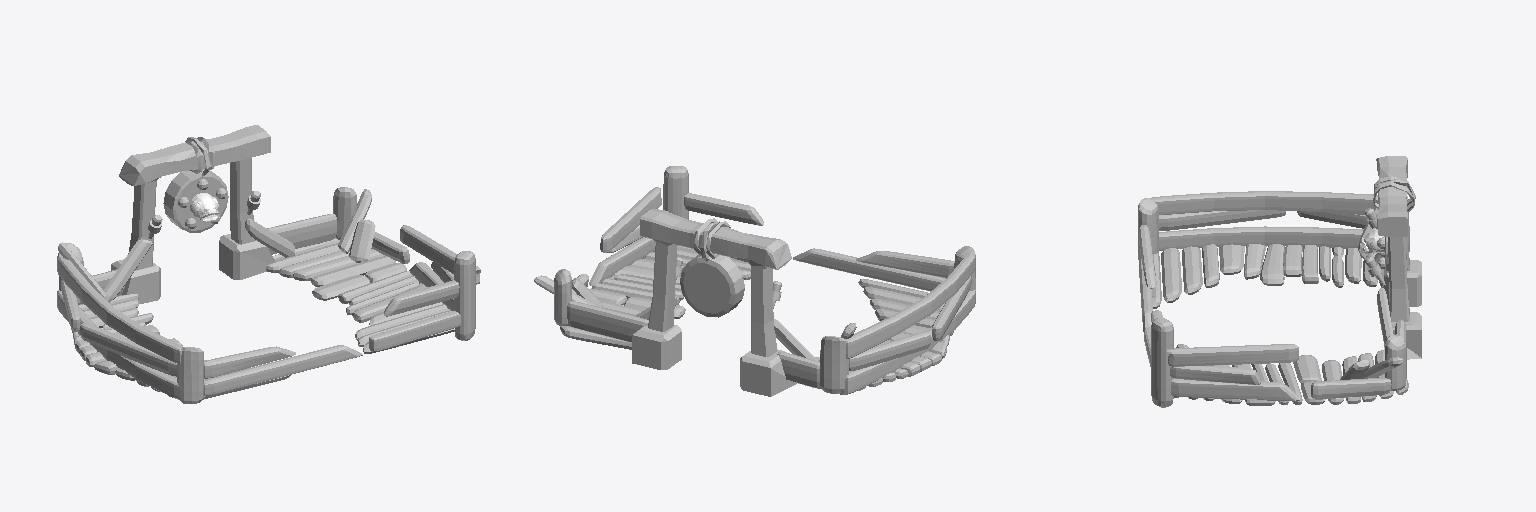
Rendered from dojo.obj.
3 views of the same model, side by side, from view 1: azimuth 30°, elevation 25°; view 2: azimuth 150°, elevation 25°; view 3: azimuth 270°, elevation 25° (orthographic).
Visible parts, largest first — view 1: Cube_Cube.001, Cube.003_Cube, Cube.002_Cube.003, Cube.001_Cube.002, Cylinder, Cube.005, Cube.004, Cylinder.001_Cylinder.002; view 2: Cube_Cube.001, Cube.003_Cube, Cube.001_Cube.002, Cylinder, Cube.002_Cube.003, Cube.005, Cube.004, Cylinder.001_Cylinder.002; view 3: Cube_Cube.001, Cube.002_Cube.003, Cube.003_Cube, Cube.001_Cube.002, Cube.004, Cube.005, Cylinder.001_Cylinder.002.
Part boxes in pixels (bbox=[...]): Cube_Cube.001: bbox=[57, 189, 480, 399]; Cube.003_Cube: bbox=[119, 125, 270, 269]; Cube.002_Cube.003: bbox=[71, 251, 449, 391]; Cube.001_Cube.002: bbox=[58, 187, 475, 403]; Cylinder: bbox=[163, 169, 228, 232]; Cube.005: bbox=[219, 234, 275, 279]; Cube.004: bbox=[111, 259, 160, 303]; Cylinder.001_Cylinder.002: bbox=[185, 137, 214, 176]; Cube_Cube.001: bbox=[534, 187, 975, 394]; Cube.003_Cube: bbox=[640, 209, 791, 356]; Cube.001_Cube.002: bbox=[554, 166, 975, 393]; Cylinder: bbox=[680, 253, 744, 317]; Cube.002_Cube.003: bbox=[592, 252, 946, 386]; Cube.005: bbox=[632, 325, 681, 369]; Cube.004: bbox=[740, 349, 796, 396]; Cylinder.001_Cylinder.002: bbox=[693, 218, 730, 262]; Cube_Cube.001: bbox=[1138, 191, 1408, 404]; Cube.002_Cube.003: bbox=[1182, 244, 1376, 405]; Cube.003_Cube: bbox=[1376, 156, 1409, 321]; Cube.001_Cube.002: bbox=[1138, 196, 1409, 407]; Cube.004: bbox=[1384, 260, 1421, 306]; Cube.005: bbox=[1384, 312, 1421, 359]; Cylinder.001_Cylinder.002: bbox=[1373, 176, 1415, 212].
Bounding box in the file's own units: 8.45 × 3.56 × 5.99.